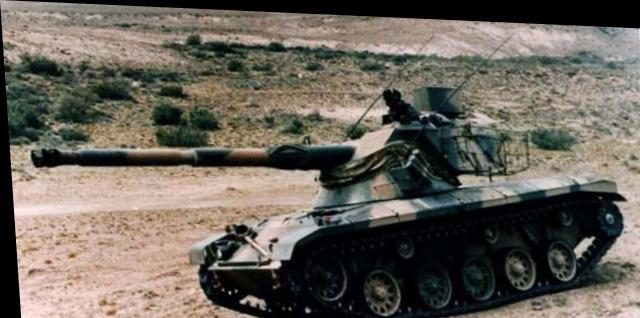other: (377, 79, 412, 121)
tank: (187, 125, 625, 316)
